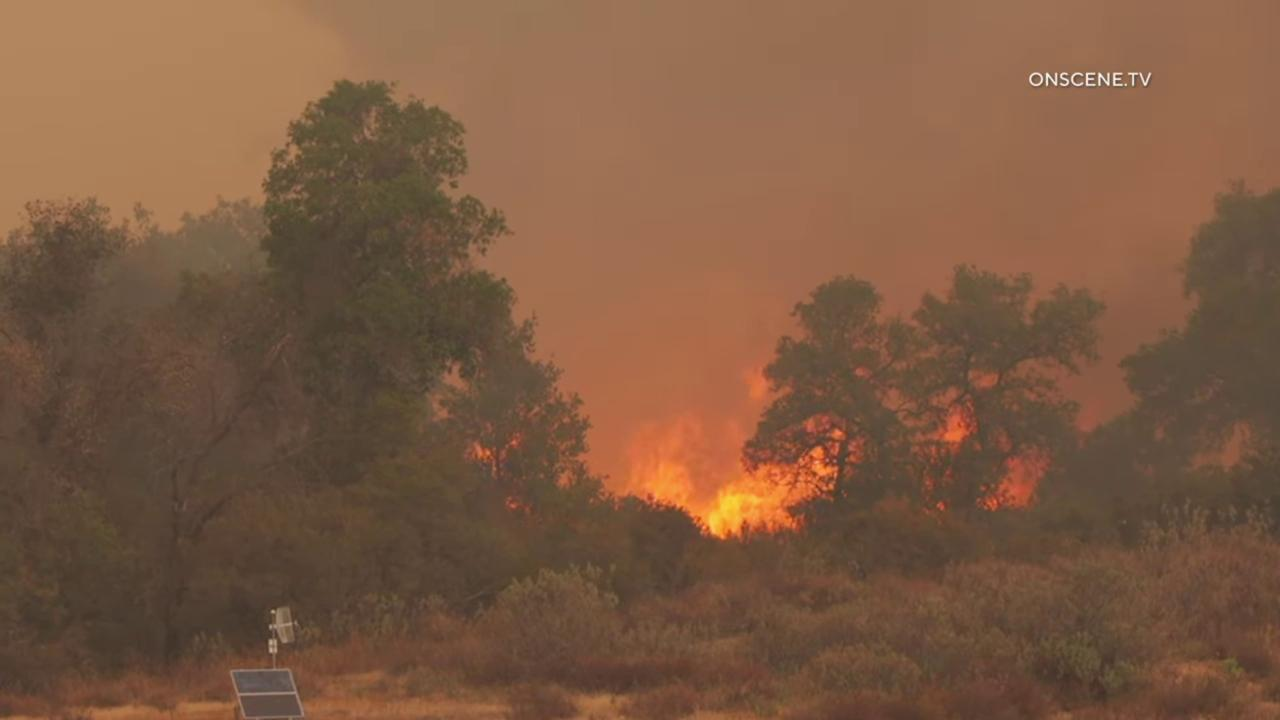fire: (620, 349, 878, 544), (974, 426, 1055, 514), (914, 402, 968, 513), (464, 441, 495, 466), (504, 494, 525, 511), (505, 431, 524, 448)
smoke: (0, 0, 1280, 546)
